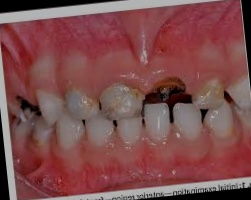Caries: (148, 77, 195, 107), (13, 92, 43, 116)
